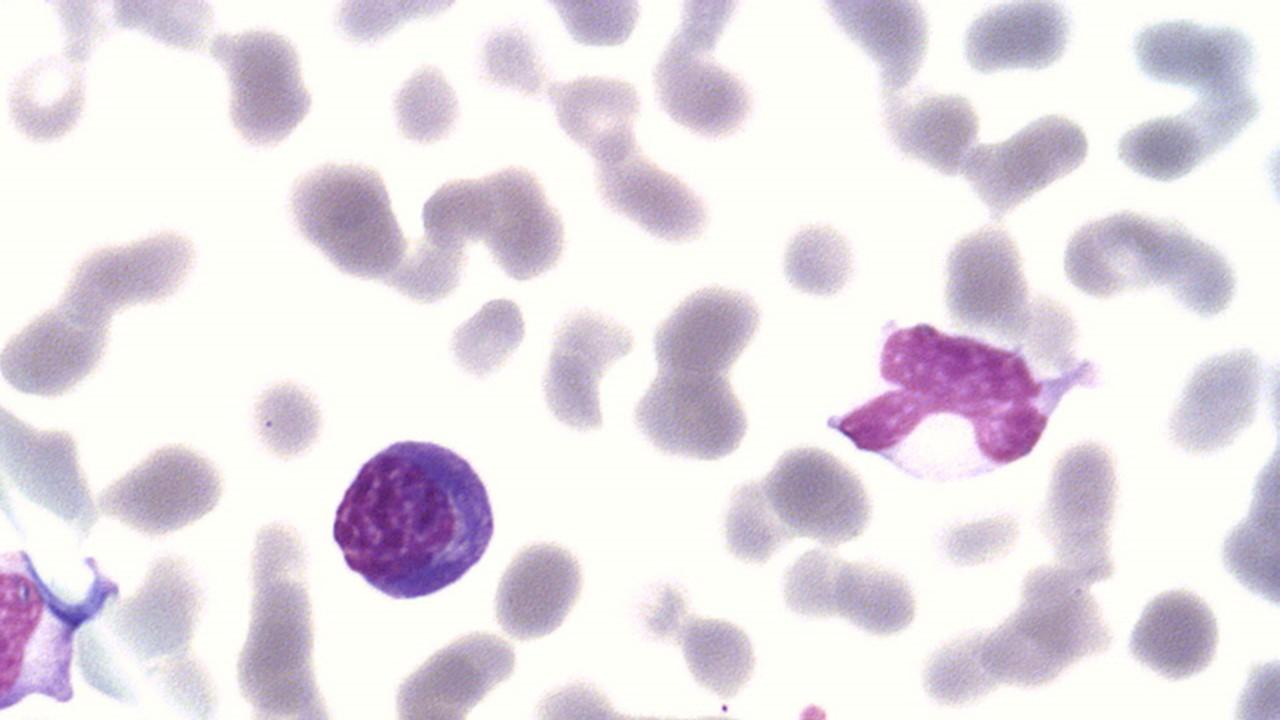RBC: (1160, 341, 1264, 462), (1118, 584, 1226, 686), (489, 536, 587, 646), (1125, 11, 1257, 92), (954, 2, 1079, 79), (772, 214, 858, 304), (1111, 110, 1205, 187), (1258, 134, 1280, 222)
WBC: (324, 432, 501, 600), (0, 542, 102, 714)
